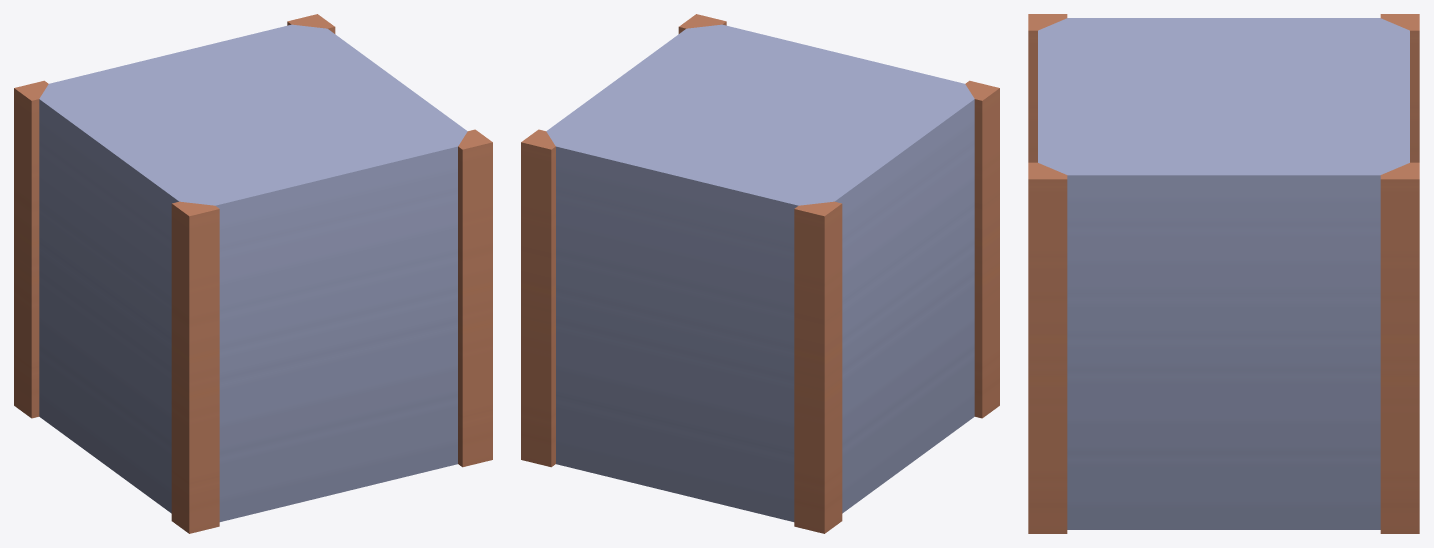
File: wall-block.fbx
3 renders of one model, left to right at view 1: azimuth 30°, elevation 25°; view 2: azimuth 150°, elevation 25°; view 3: azimuth 270°, elevation 25°, orthographic. The views are drawn at different scales.
Parts seen in each view (by area): view 1: wall-block; view 2: wall-block; view 3: wall-block.
Part boxes in pixels (<box>): wall-block: <box>14,14,492,533</box>; wall-block: <box>521,14,999,533</box>; wall-block: <box>1028,14,1419,533</box>.
Bounding box in the file's own units: 100 × 100 × 100.
Materials: 1 (1 with a texture image).
